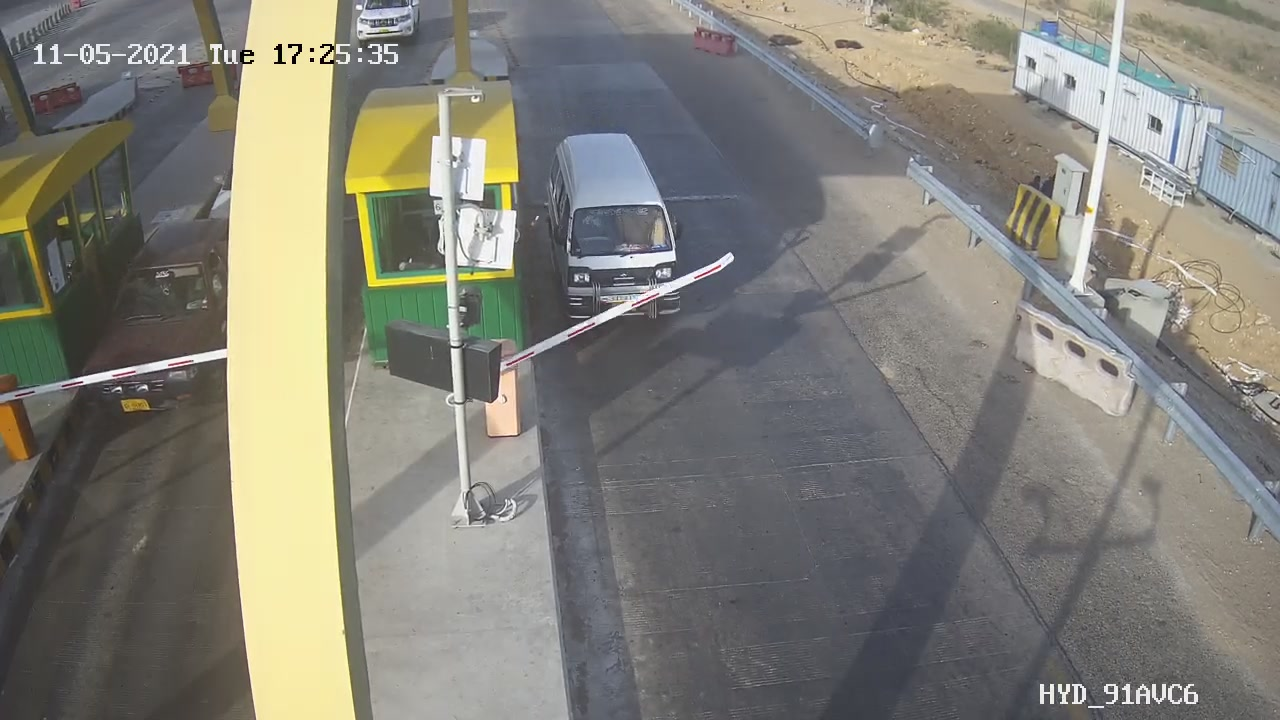F1: (533, 122, 707, 343)
